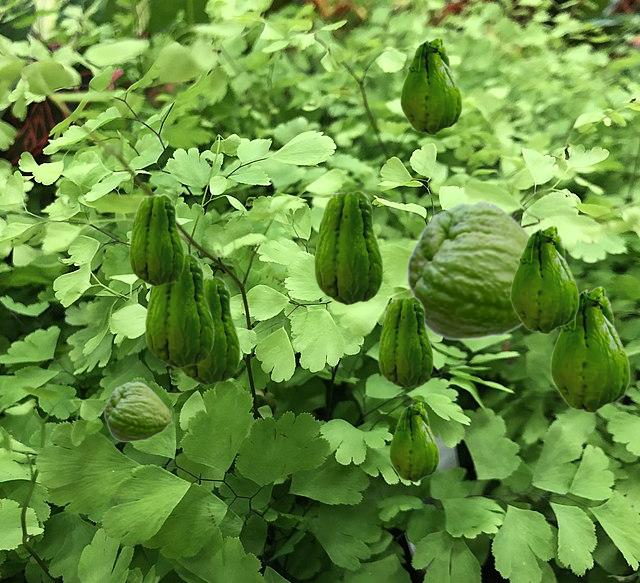sayote: (406, 200, 529, 340), (550, 286, 629, 412), (314, 190, 382, 304), (145, 253, 213, 367), (510, 225, 578, 333), (179, 276, 239, 384), (400, 37, 461, 134), (129, 194, 183, 285), (378, 296, 432, 387), (104, 381, 172, 441), (389, 402, 438, 481)
